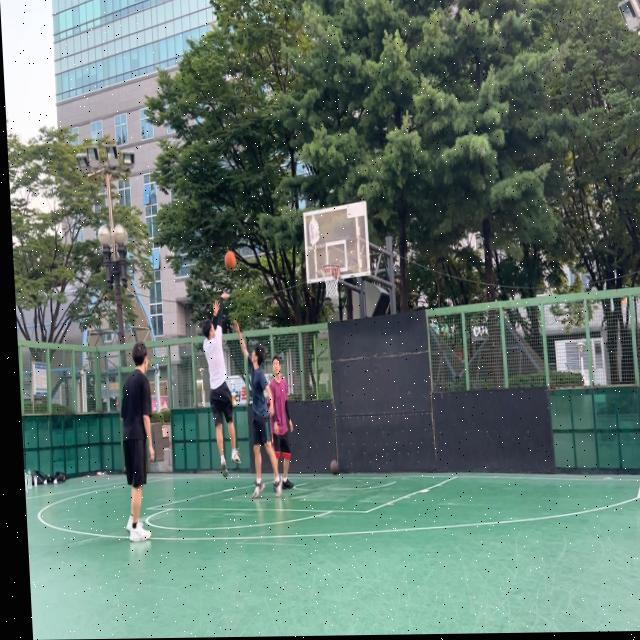basketball: (224, 250, 237, 272), (330, 459, 340, 475)
hoop: (321, 264, 342, 299)
